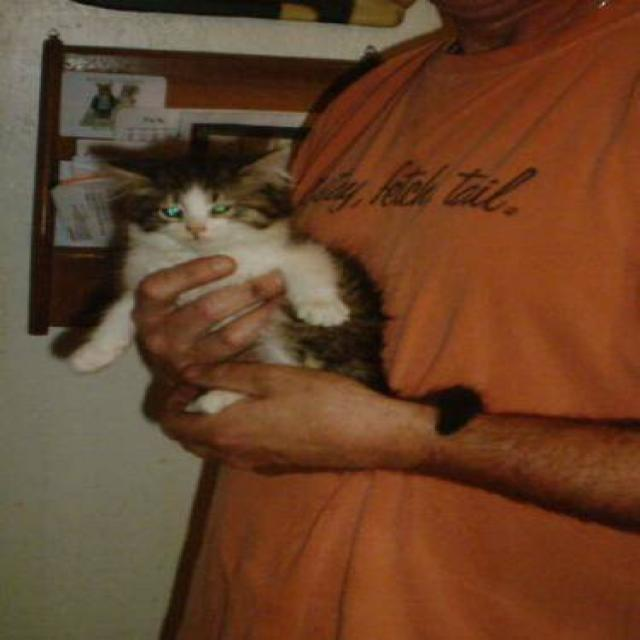cat: (47, 118, 433, 469)
